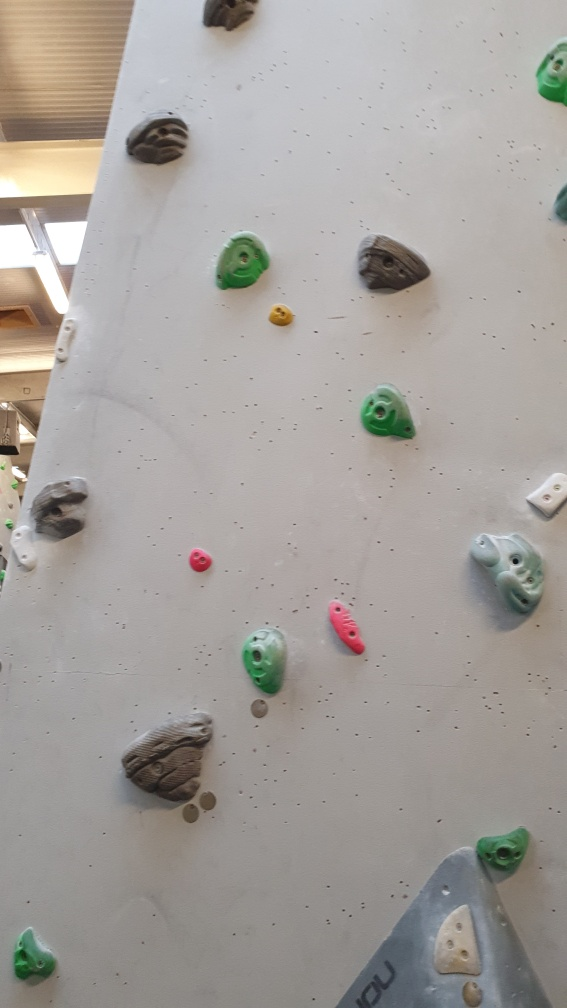Crimp: (325, 595, 366, 659), (527, 457, 566, 524), (7, 523, 40, 580), (55, 314, 80, 367)
Hand Start: (244, 693, 275, 724), (180, 798, 204, 826), (459, 979, 484, 1005), (195, 789, 220, 811)
Jug: (122, 711, 209, 802), (469, 529, 548, 614), (354, 232, 434, 297), (358, 380, 420, 450), (30, 478, 91, 543), (213, 226, 270, 295), (239, 625, 288, 700), (124, 107, 190, 162), (478, 823, 536, 877)
Pinch: (266, 301, 296, 326), (190, 544, 214, 572)
